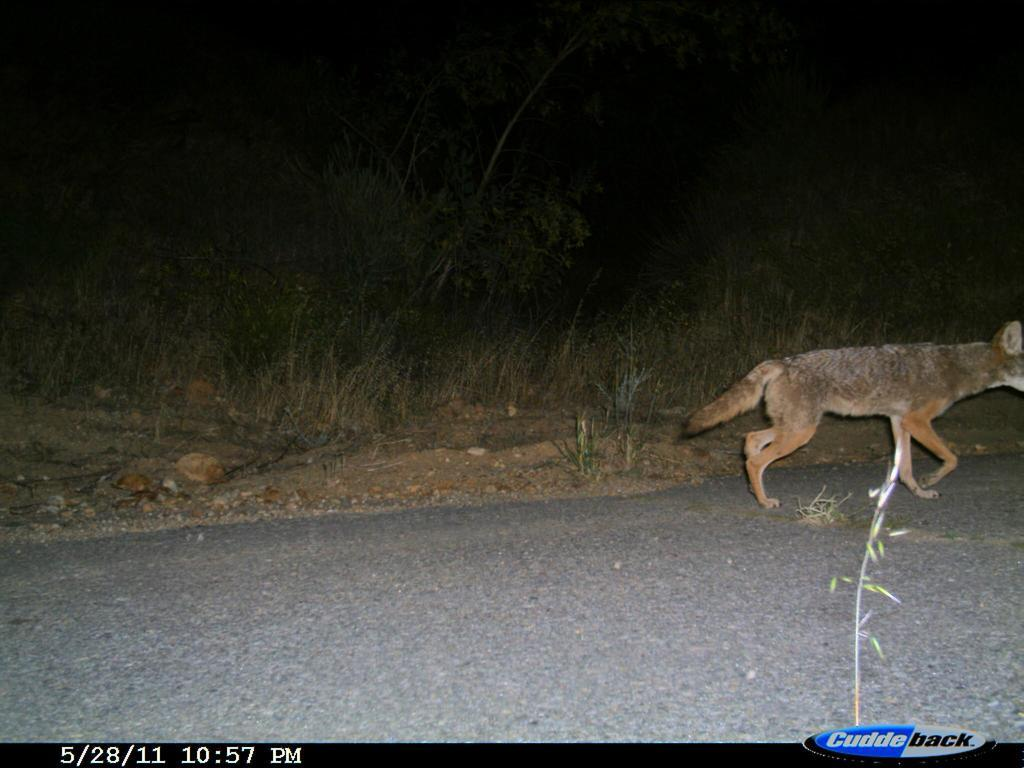coyote: (671, 315, 1022, 525)
